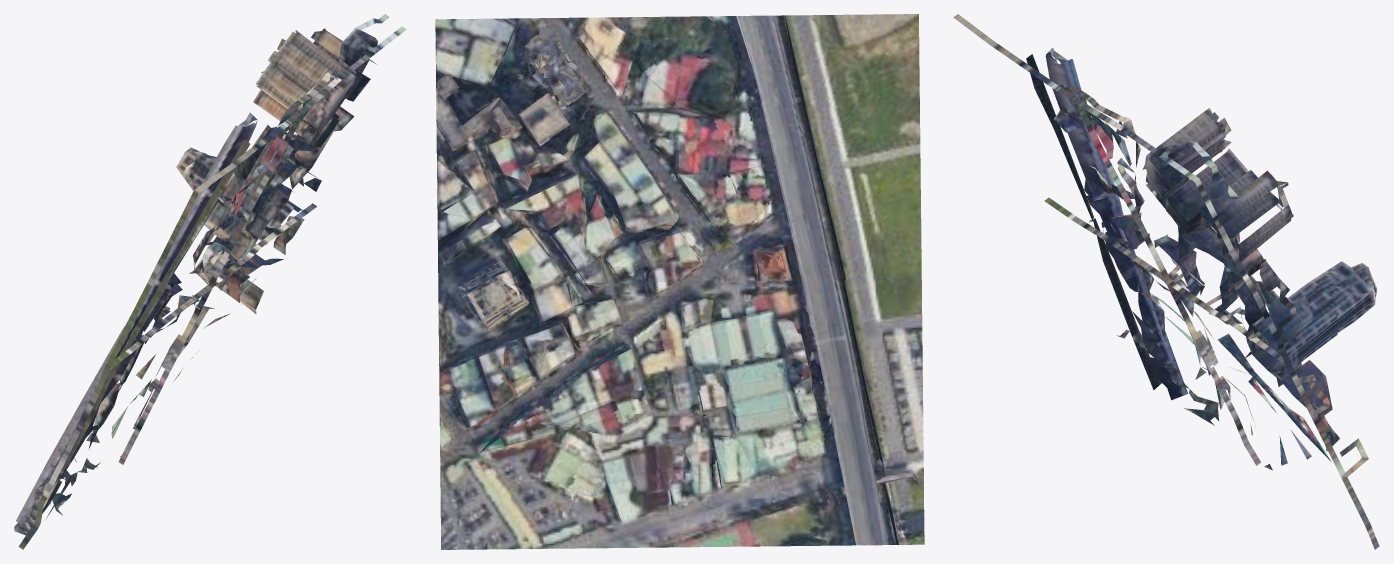
The picture shows the model from 3 angles, left to right: view 1: azimuth 30°, elevation 25°; view 2: azimuth 150°, elevation 25°; view 3: azimuth 270°, elevation 25°; orthographic projection. The views are drawn at different scales.
Bounding box in the file's own units: 304 × 294 × 257.
1 material, 1 textured.
